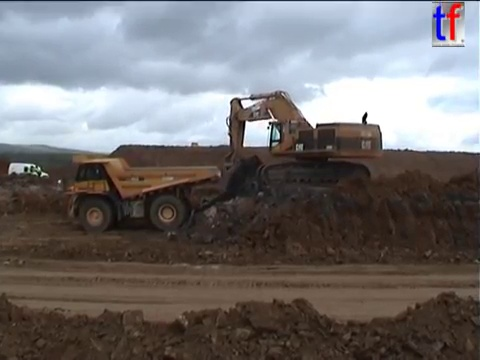excavator: (220, 88, 385, 196)
truck: (55, 152, 222, 232)
worker: (33, 162, 42, 182), (28, 163, 35, 180)
